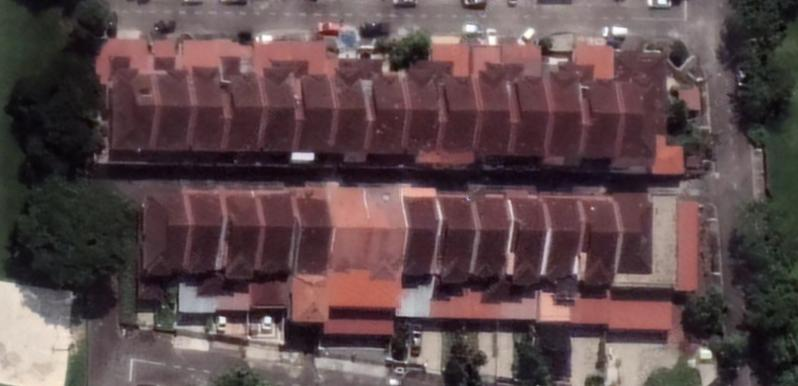building: (617, 48, 688, 174), (355, 55, 409, 157), (108, 54, 158, 156), (215, 54, 266, 154), (501, 62, 551, 159), (142, 188, 194, 278), (575, 60, 621, 161), (330, 58, 372, 163), (504, 193, 551, 286), (292, 58, 337, 154), (364, 186, 409, 281), (576, 193, 621, 288), (152, 54, 195, 153), (437, 60, 481, 156), (435, 192, 479, 283), (541, 190, 583, 284), (402, 61, 444, 154), (259, 58, 299, 155), (401, 188, 444, 278), (221, 187, 264, 274), (468, 196, 511, 283), (292, 189, 335, 275), (331, 186, 372, 275), (184, 191, 227, 274), (255, 190, 297, 274), (546, 67, 583, 162), (189, 65, 228, 154), (475, 65, 510, 157), (616, 192, 653, 275)
